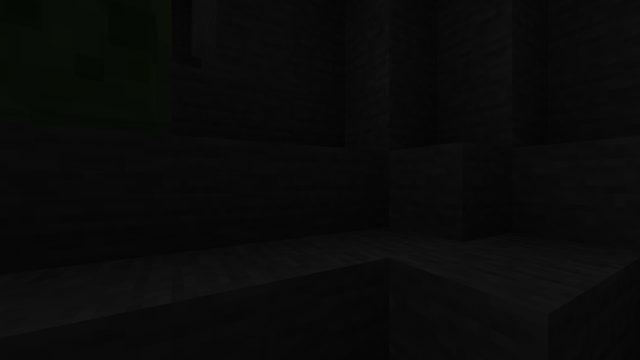slimes: (2, 1, 174, 138)
